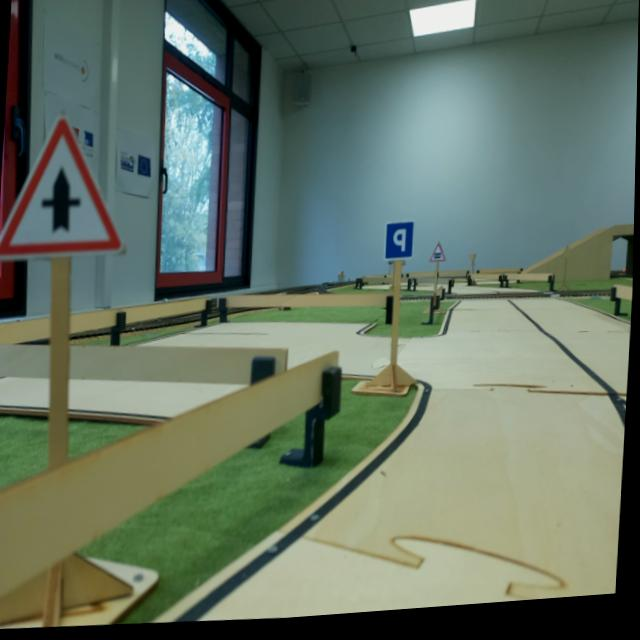panneau_intersection: (0, 108, 121, 279)
panneau_parking: (381, 214, 416, 264)
